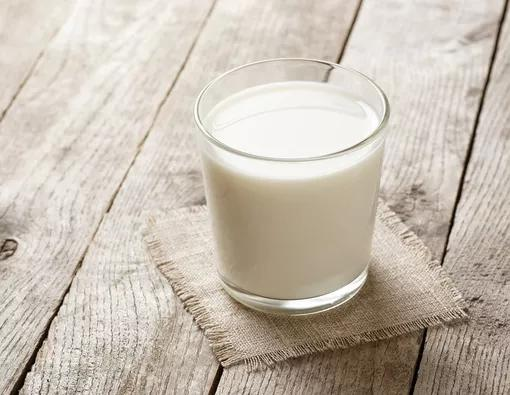produk_susu: (231, 82, 354, 289)
